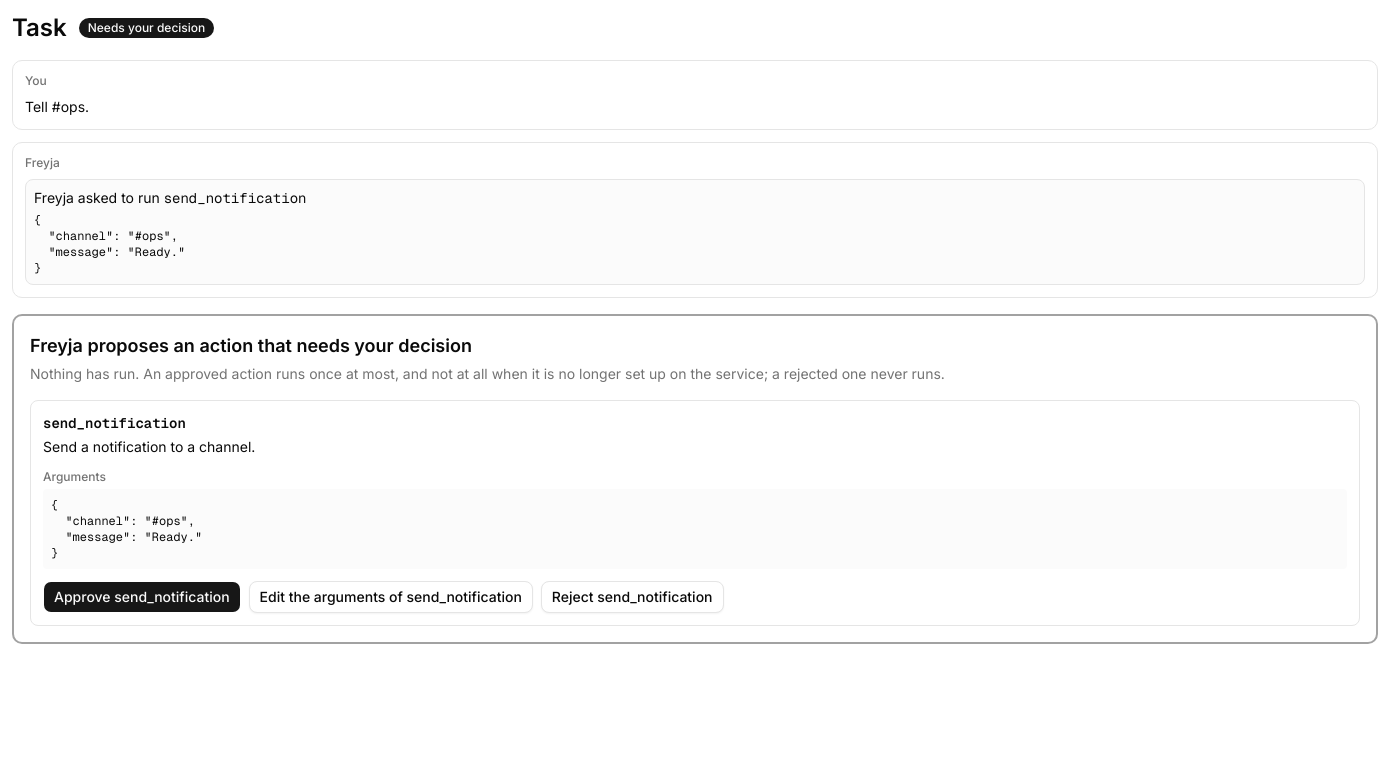
Scenario: a task's page and a decision that gets no answer › shows no proposal when the decision had been applied after all
What coordinates should you click on to do the following:
click the button "Approve send_notification"
I would click on:
 (142, 597)
Its box is [43,581,241,613].
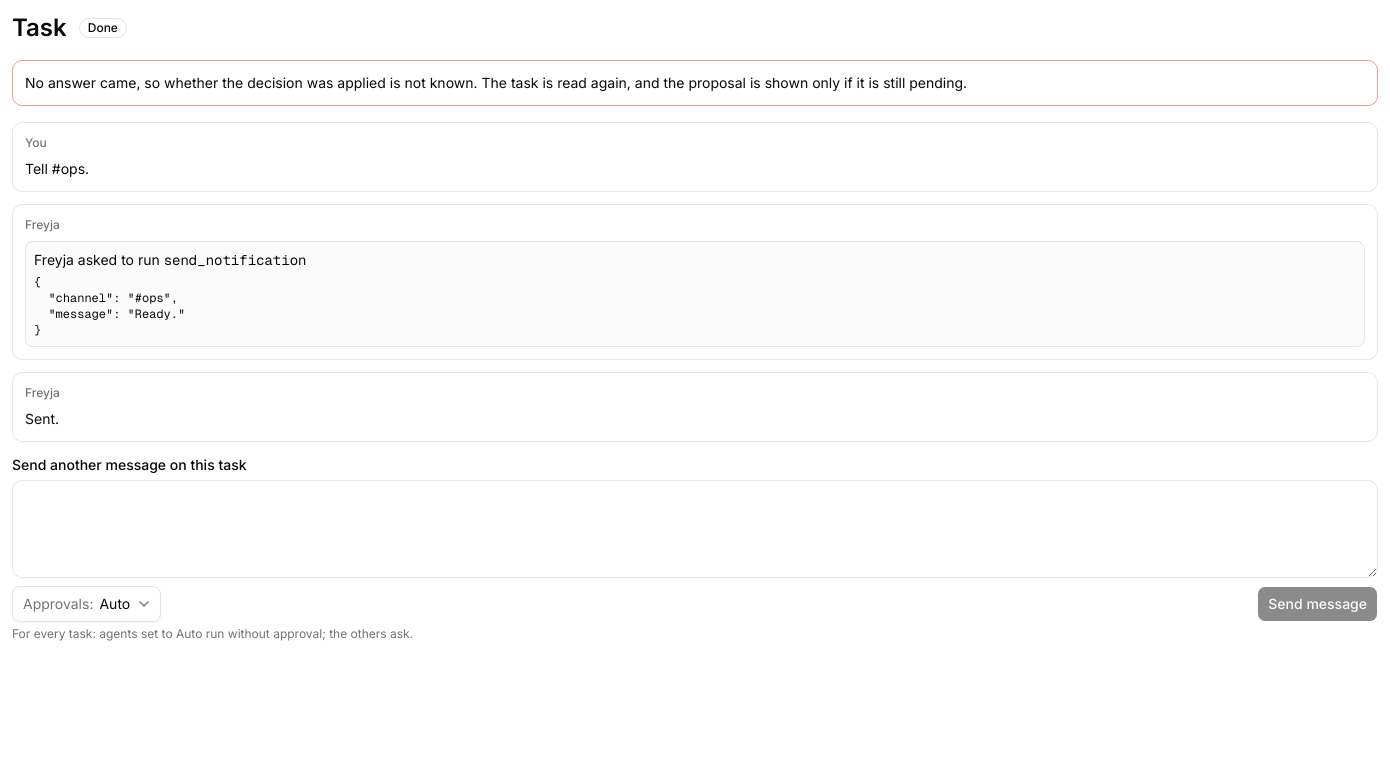
Expected: the list named "Conversation" shows "Sent.", [25,410,59,427]
Expected: the button "Approve send_notification" is gone
Expected: the icon "Done" is shown, [79,18,127,38]
